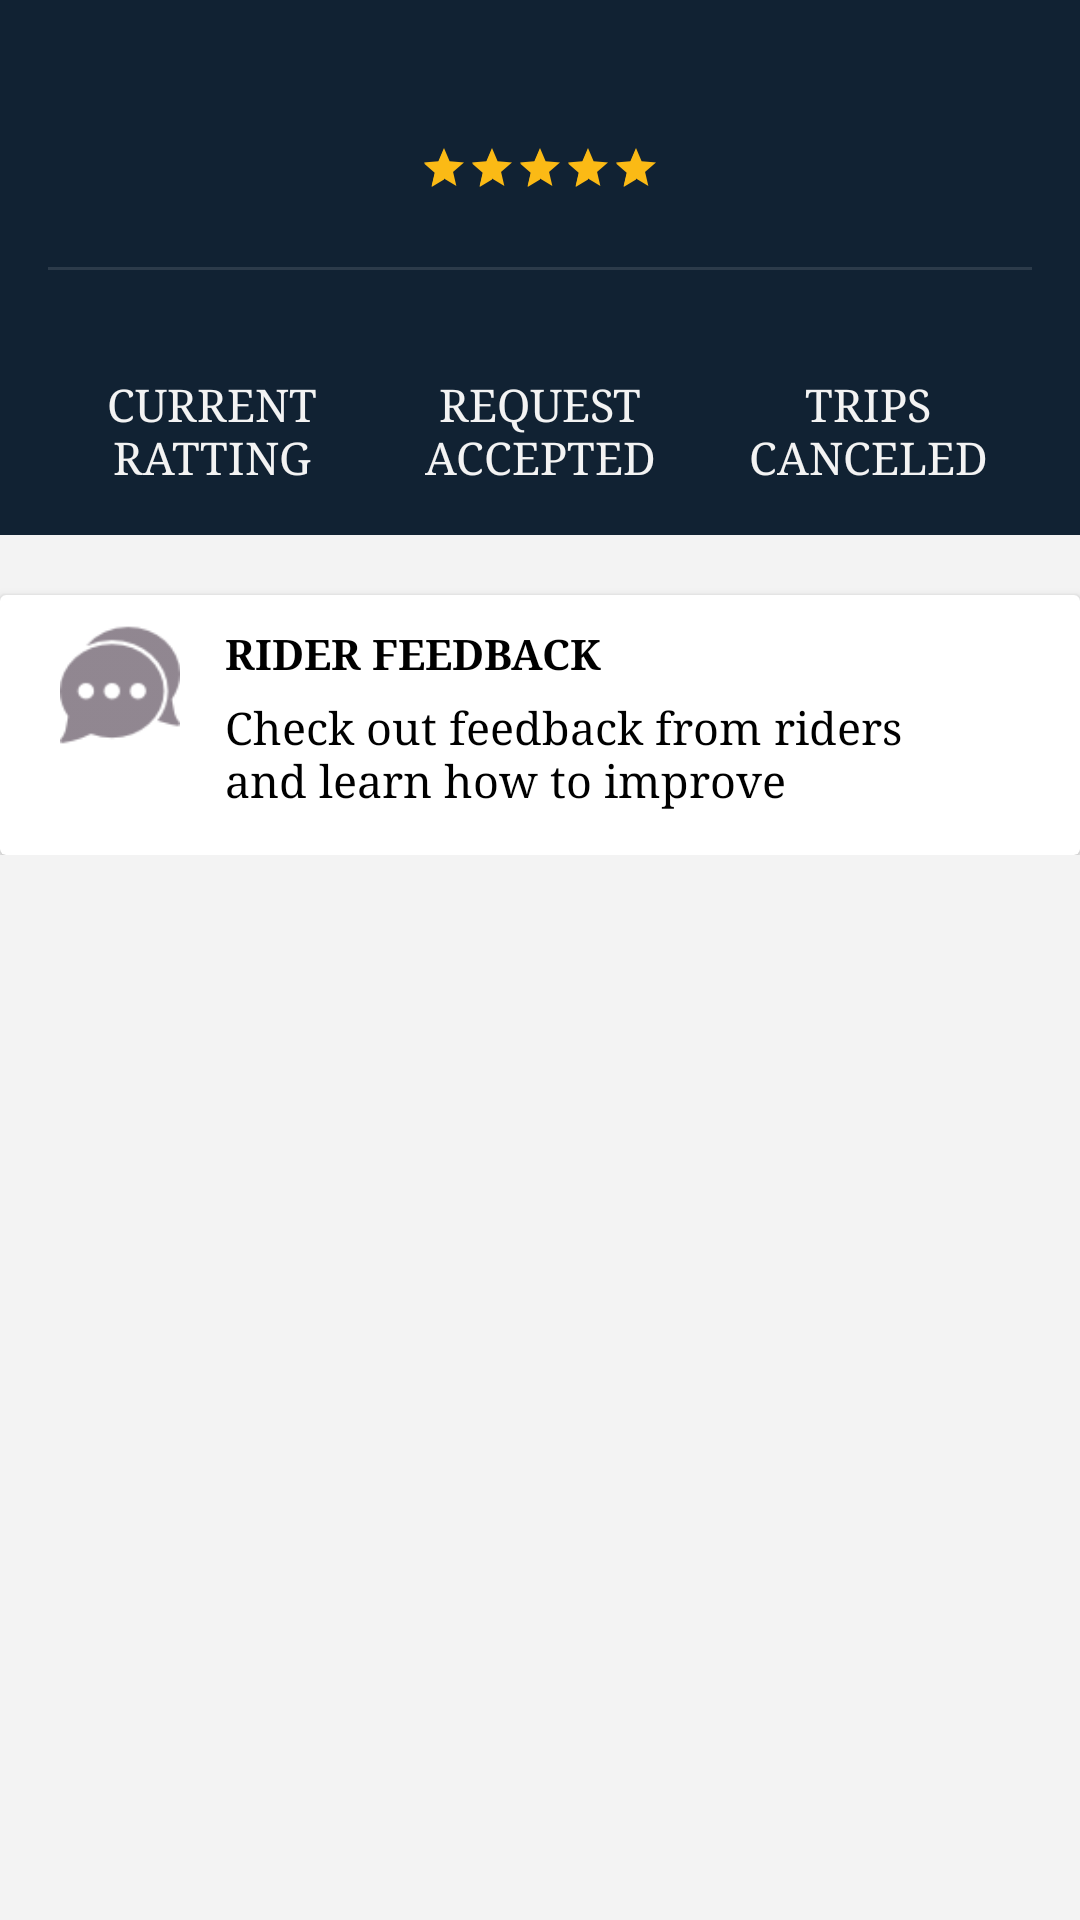

Screen size 1080w x 1920h. Icon name, then its center in pixels as point (x, y):
feedbackicon: point (120, 685)
